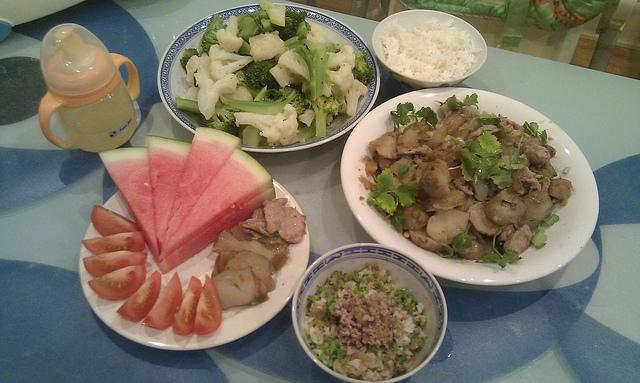broccoli: (218, 86, 308, 123), (284, 36, 330, 102), (176, 98, 242, 136), (304, 92, 343, 138), (201, 28, 251, 57), (272, 9, 312, 41), (246, 60, 280, 91), (238, 16, 264, 45), (352, 52, 374, 86), (180, 48, 200, 74)
cauliflower: (233, 104, 299, 146), (209, 43, 254, 82), (270, 49, 310, 90), (249, 31, 286, 64), (216, 15, 243, 53), (186, 55, 215, 88), (326, 61, 354, 94), (346, 80, 368, 117), (326, 45, 356, 72), (222, 86, 253, 100), (270, 5, 286, 27), (299, 107, 315, 127), (186, 86, 200, 101)
tomato: (116, 270, 162, 322), (142, 271, 182, 329), (90, 265, 146, 300), (171, 276, 202, 336), (192, 274, 222, 336), (83, 250, 147, 278), (91, 204, 140, 236), (81, 232, 146, 256)
watermelon: (158, 147, 274, 260), (158, 187, 276, 274), (161, 127, 242, 252), (98, 146, 162, 266), (147, 134, 192, 255)
